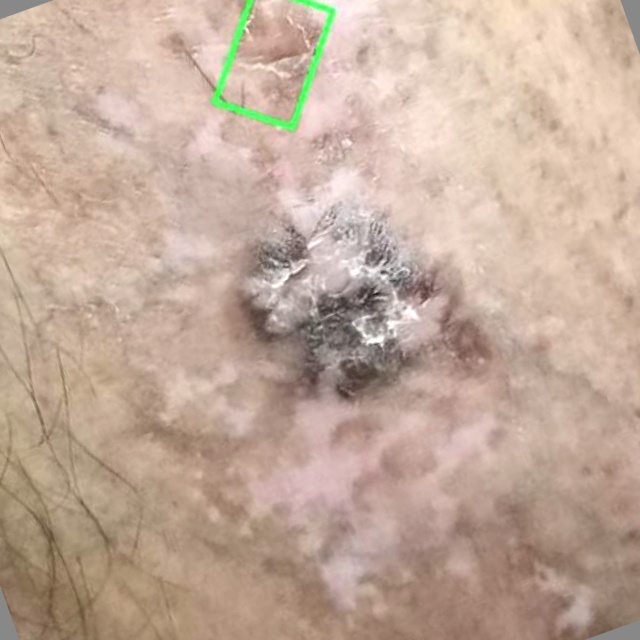Eczema: (215, 0, 332, 129)
